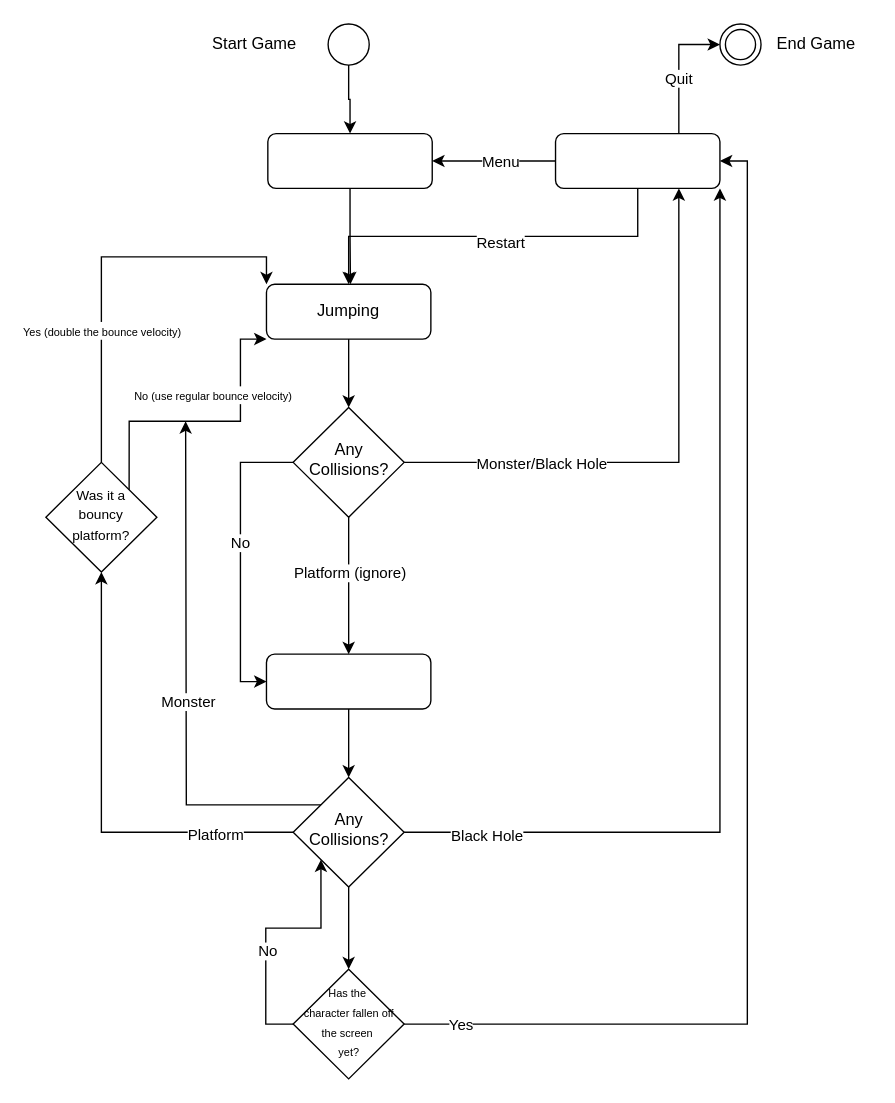
Image size: 895x1103. Some labels were removed from this diagram. Each missing label, with the box of its shape:
Falling: (265, 653, 431, 709)
Main Menu: (266, 132, 432, 188)
Stat Screen: (554, 132, 720, 188)
